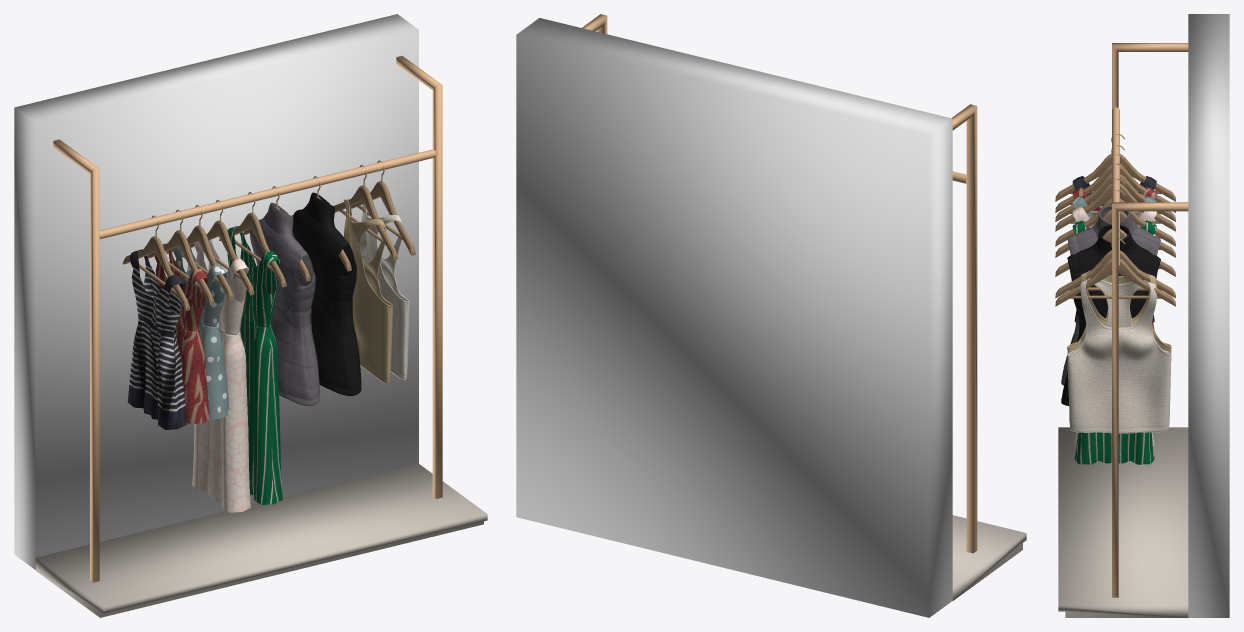
Rendered from clothes.glb.
The picture shows the model from 3 angles, left to right: view 1: azimuth 30°, elevation 25°; view 2: azimuth 150°, elevation 25°; view 3: azimuth 270°, elevation 25°; orthographic projection. The views are drawn at different scales.
Visible parts, largest first — view 1: estrutura, Plane.013, puffy_jacket_mesh.002, Plane.011, puffy_jacket_mesh.001, Plane.014, sport_top_women_tank_top_flat_mesh.001, Plane.012, Plane.010, sport_top_women_tank_top_flat_mesh.002, Plane.021, Plane.005 (+5 smaller); view 2: estrutura; view 3: estrutura, sport_top_women_tank_top_flat_mesh.002, puffy_jacket_mesh.002, Plane.013, puffy_jacket_mesh.001, Plane.022, sport_top_women_tank_top_flat_mesh.001, Plane.021, Plane.005, Plane.017, Plane.016, Plane.015 (+6 smaller).
Part boxes in pixels (x1,y1,x2,y2): estrutura: (14, 14, 487, 617); Plane.013: (227, 226, 282, 504); puffy_jacket_mesh.002: (292, 192, 361, 396); Plane.011: (192, 240, 250, 512); puffy_jacket_mesh.001: (250, 202, 320, 406); Plane.014: (127, 249, 186, 429); sport_top_women_tank_top_flat_mesh.001: (343, 199, 392, 384); Plane.012: (154, 243, 209, 424); Plane.010: (173, 245, 229, 419); sport_top_women_tank_top_flat_mesh.002: (360, 204, 409, 380); Plane.021: (334, 164, 397, 260); Plane.005: (122, 215, 189, 310); estrutura: (516, 14, 1026, 617); estrutura: (1058, 14, 1229, 617); sport_top_women_tank_top_flat_mesh.002: (1067, 278, 1171, 433); puffy_jacket_mesh.002: (1061, 225, 1160, 405); Plane.013: (1072, 220, 1156, 464); puffy_jacket_mesh.001: (1061, 206, 1160, 385); Plane.022: (1055, 239, 1175, 306); sport_top_women_tank_top_flat_mesh.001: (1067, 270, 1171, 353); Plane.021: (1055, 230, 1175, 298); Plane.005: (1055, 134, 1175, 201); Plane.017: (1055, 163, 1175, 231); Plane.016: (1055, 154, 1175, 221); Plane.015: (1055, 145, 1175, 212).
Size of the model in its own units: 1.57 by 1.74 by 0.6459.
Materials: 14 (11 with a texture image).
